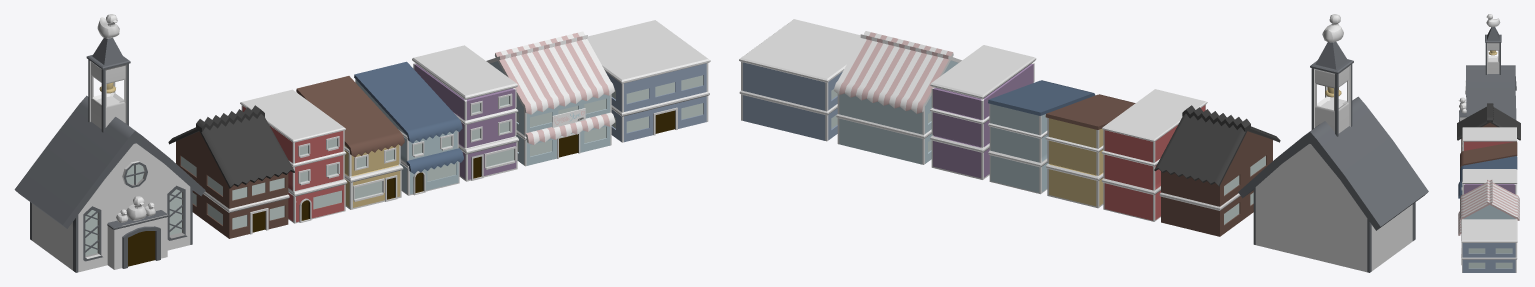
Rendered from Buildings.fbx.
3 views of the same model, side by side, from view 1: azimuth 30°, elevation 25°; view 2: azimuth 150°, elevation 25°; view 3: azimuth 270°, elevation 25° (orthographic). The views are drawn at different scales.
Parts seen in each view (by area): view 1: Church1, Cafe, Building__5, Building__, Building__1, Building__2, Building__4, Building__3; view 2: Church1, Cafe, Building__5, Building__, Building__1, Building__4, Building__2, Building__3; view 3: Church1, Building__, Cafe, Building__1, Building__4, Building__5, Building__3, Building__2.
Part boxes in pixels (box(x1,y1,x2,y2)): Church1: box(14, 14, 205, 272); Cafe: box(486, 31, 615, 166); Building__5: box(168, 105, 294, 238); Building__: box(587, 20, 710, 142); Building__1: box(412, 45, 518, 181); Building__2: box(354, 61, 463, 195); Building__4: box(240, 89, 347, 223); Building__3: box(296, 76, 404, 209); Church1: box(1238, 14, 1428, 272); Cafe: box(834, 31, 961, 164); Building__5: box(1154, 105, 1280, 236); Building__: box(739, 19, 861, 141); Building__1: box(930, 45, 1036, 179); Building__4: box(1101, 89, 1207, 221); Building__2: box(988, 80, 1095, 194); Building__3: box(1045, 94, 1135, 208); Church1: box(1458, 14, 1516, 121); Building__: box(1461, 219, 1517, 272); Cafe: box(1458, 179, 1519, 235); Building__1: box(1462, 169, 1517, 194); Building__4: box(1462, 127, 1517, 151); Building__5: box(1457, 103, 1520, 151); Building__3: box(1460, 141, 1517, 168); Building__2: box(1458, 156, 1517, 198).
Bounding box in the file's own units: 7325 × 2479 × 1228.
17 materials, 1 textured.
